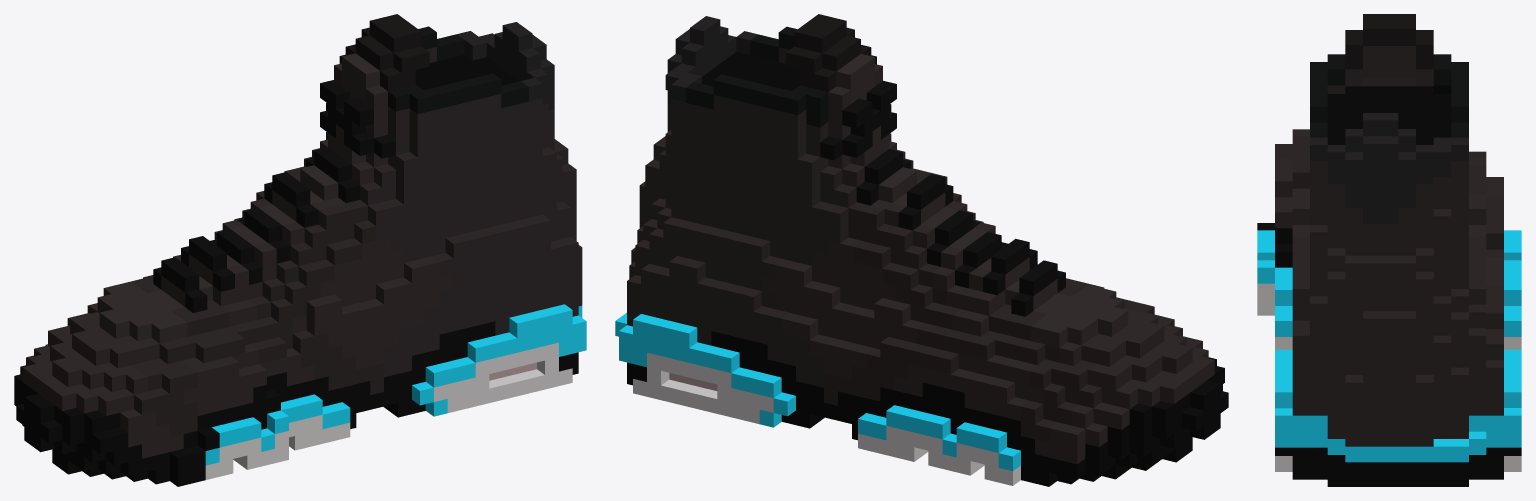
The model's file is Blue Forgiveness.fbx.
3 renders of one model, left to right at view 1: azimuth 30°, elevation 25°; view 2: azimuth 150°, elevation 25°; view 3: azimuth 270°, elevation 25°, orthographic. The views are drawn at different scales.
Parts seen in each view (by area): view 1: Untitled; view 2: Untitled; view 3: Untitled.
Part boxes in pixels (bbox=[...]): Untitled: bbox=[14, 14, 586, 486]; Untitled: bbox=[615, 14, 1228, 486]; Untitled: bbox=[1257, 14, 1521, 486].
Bounding box in the file's own units: 390 × 240 × 150.
